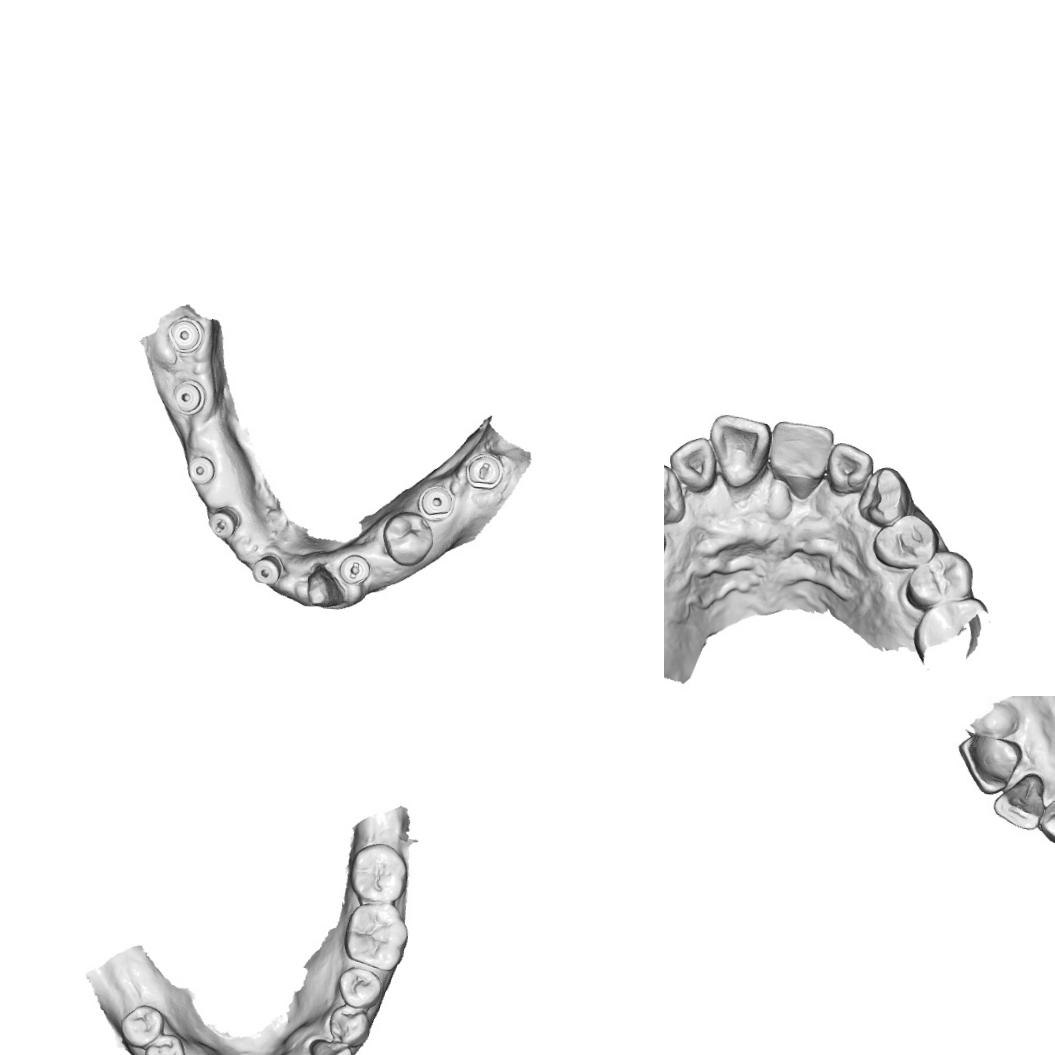canine: (856, 463, 911, 524), (664, 461, 695, 524), (1038, 783, 1055, 849), (305, 1035, 354, 1055)
crown: (295, 562, 348, 614)
implant: (415, 482, 455, 522), (164, 316, 204, 355), (171, 377, 207, 416), (248, 550, 284, 588), (184, 452, 218, 486)
implant_minus: (463, 448, 506, 493), (333, 548, 374, 591), (204, 504, 241, 543)
incisor: (767, 420, 836, 498), (708, 413, 772, 489), (957, 726, 1020, 798), (990, 770, 1046, 834), (665, 434, 721, 496), (824, 438, 873, 501)
molar: (340, 898, 412, 973), (345, 839, 410, 906)
premolar: (905, 546, 972, 608), (379, 507, 437, 570), (870, 516, 934, 570), (116, 1000, 166, 1050), (324, 1002, 373, 1049), (334, 964, 384, 1010), (141, 1031, 185, 1055)
